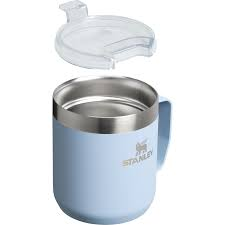mug: (29, 66, 205, 225)
